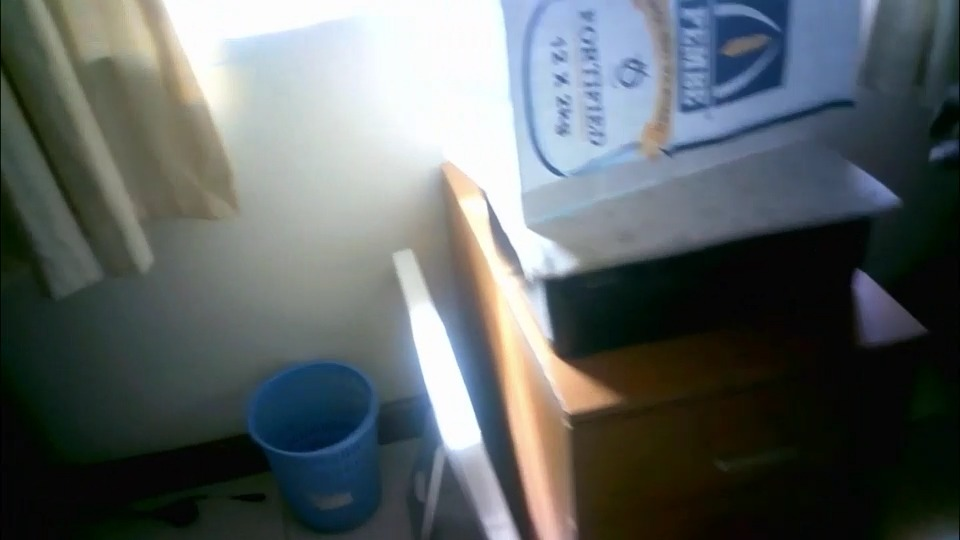wheat_flour_blue_label: (427, 0, 864, 217)
